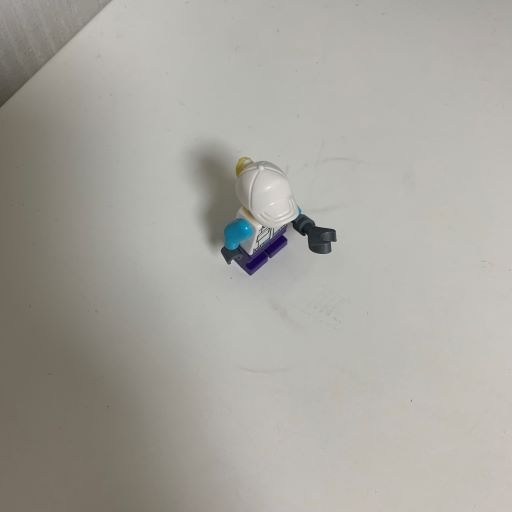human: (204, 151, 344, 300)
